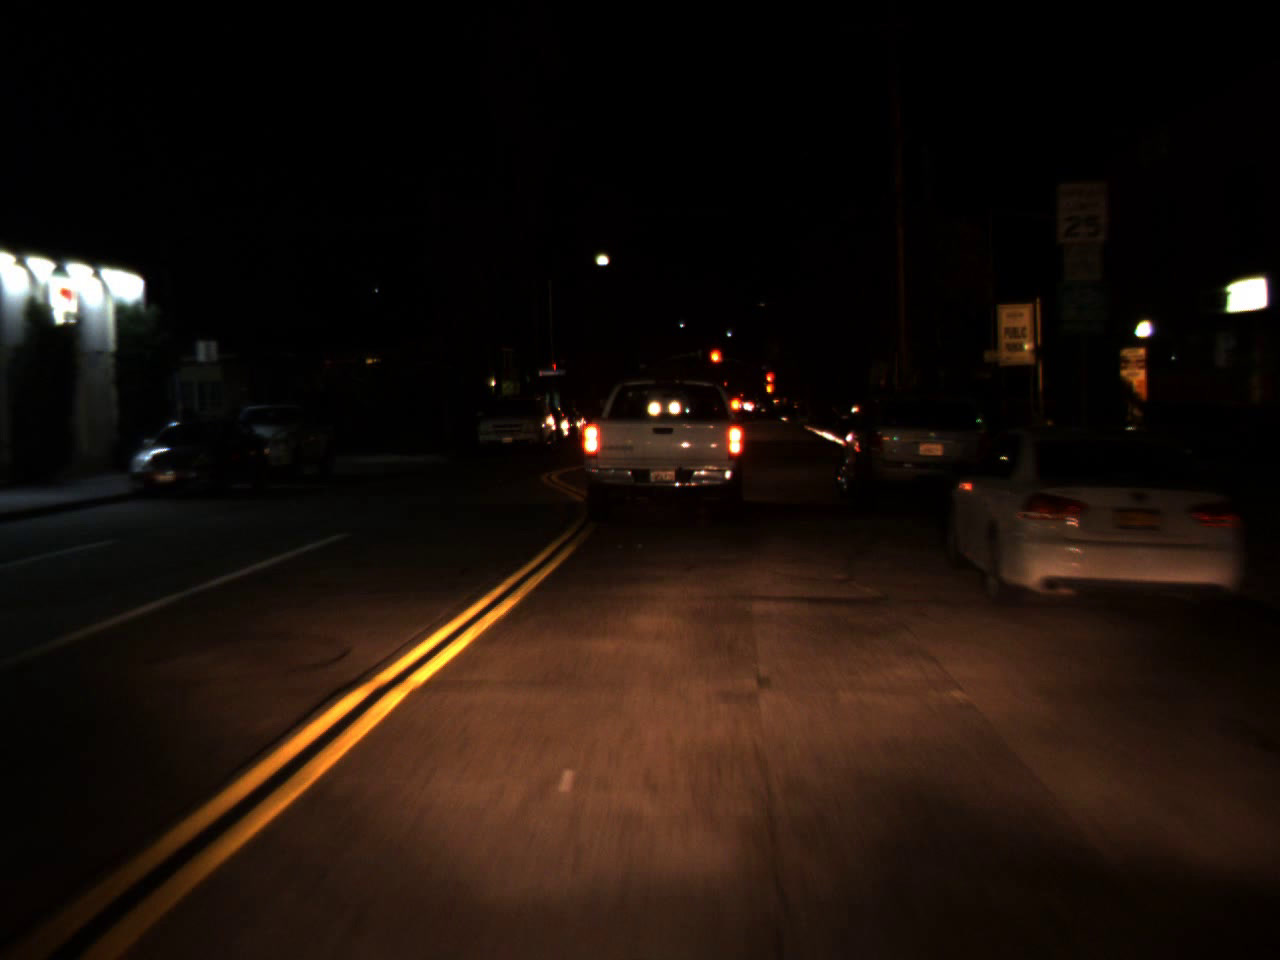stop: (708, 347, 721, 379), (765, 371, 777, 395)
